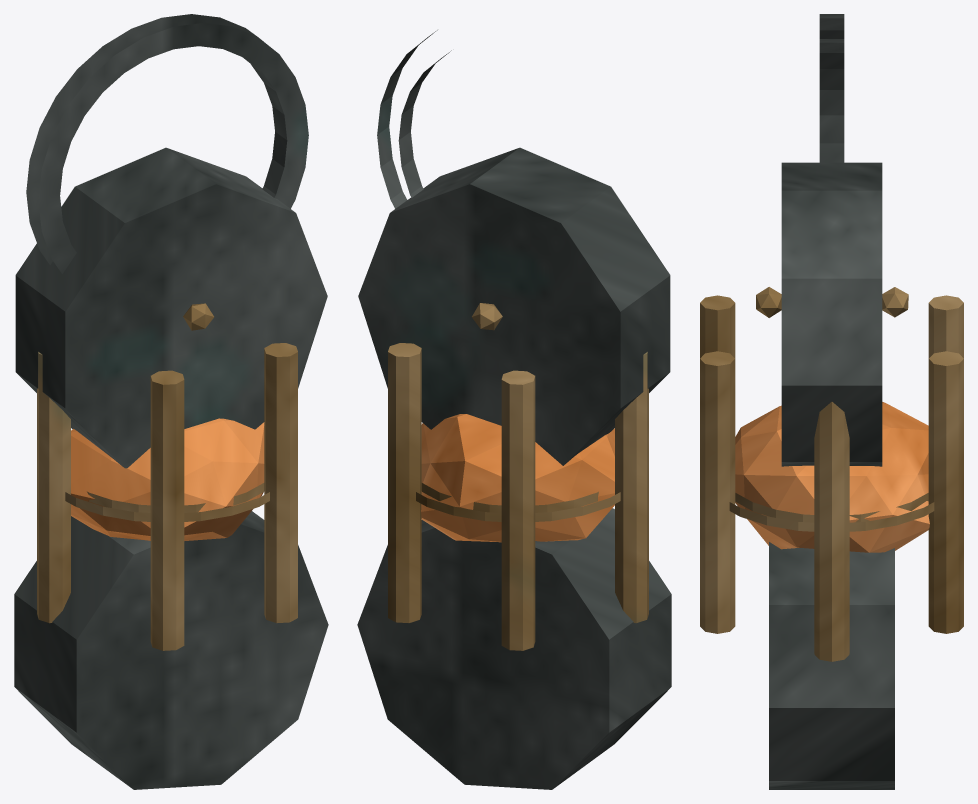
The model's file is 0914_lantern_14.glb.
3 renders of one model, left to right at view 1: azimuth 30°, elevation 25°; view 2: azimuth 150°, elevation 25°; view 3: azimuth 270°, elevation 25°, orthographic.
Visible parts, largest first — view 1: iron, brass, amber; view 2: iron, brass, amber; view 3: iron, brass, amber.
Boxes of the visible parts, left/top/right/bottom form: iron: left=14, top=14, right=328, bottom=789; brass: left=37, top=303, right=297, bottom=650; amber: left=71, top=418, right=264, bottom=540; iron: left=357, top=30, right=671, bottom=789; brass: left=388, top=303, right=648, bottom=650; amber: left=421, top=414, right=614, bottom=542; iron: left=769, top=14, right=894, bottom=789; brass: left=700, top=287, right=963, bottom=661; amber: left=735, top=402, right=929, bottom=552.
Size of the model in its own units: 0.5 by 1.32 by 0.4197.
3 materials, 3 textured.
